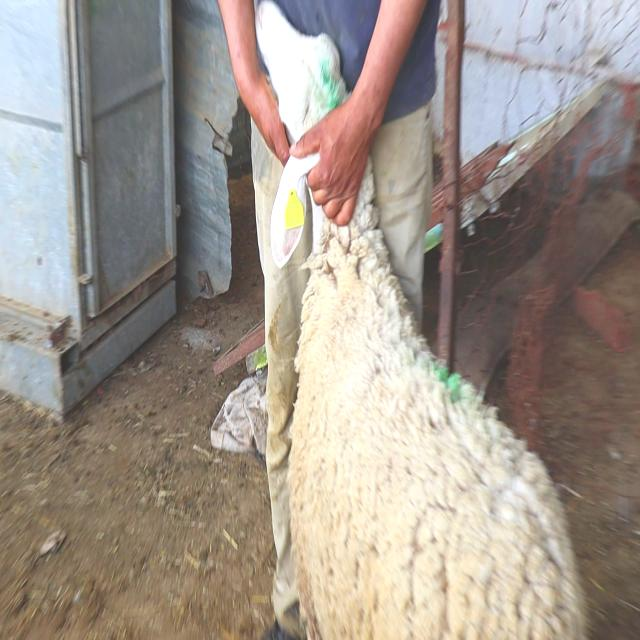Score_3: (255, 0, 586, 639)
